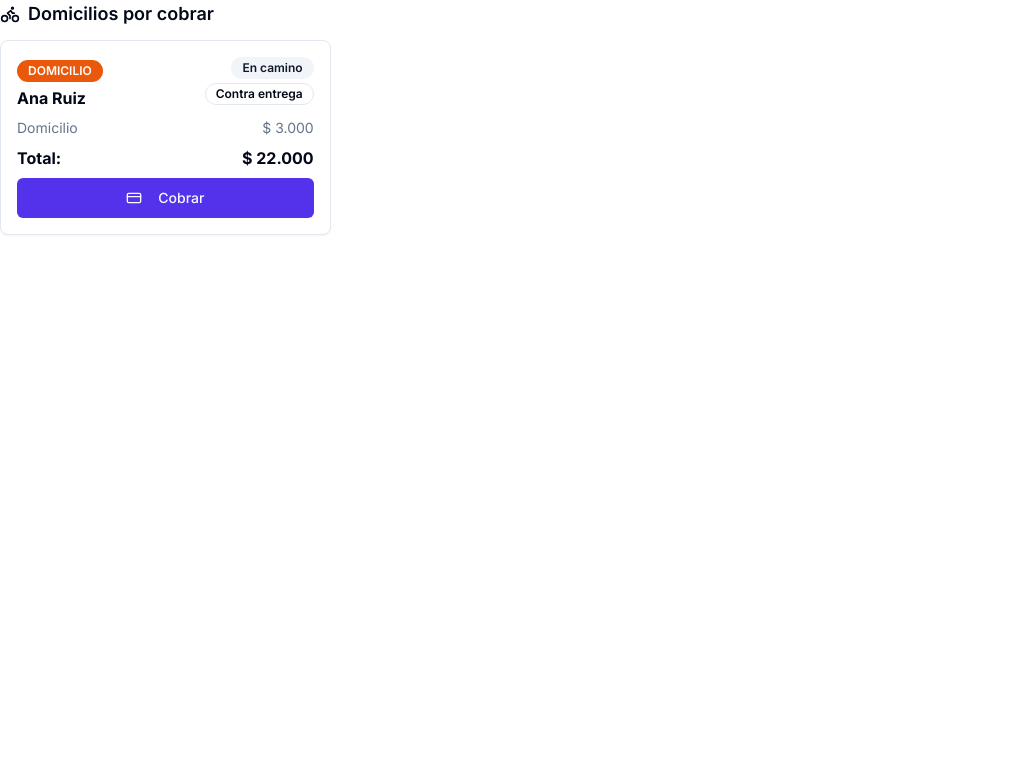
it: DeliveryPaymentsPanel — register open check › asks only for the open register on mount and on every Cobrar click
This screenshot has width=1024, height=768.
Check: the text "Ana Ruiz" is shown, box [17,88,86,108]
Click the button "Cobrar" at (165, 198), box [17,178,314,218]
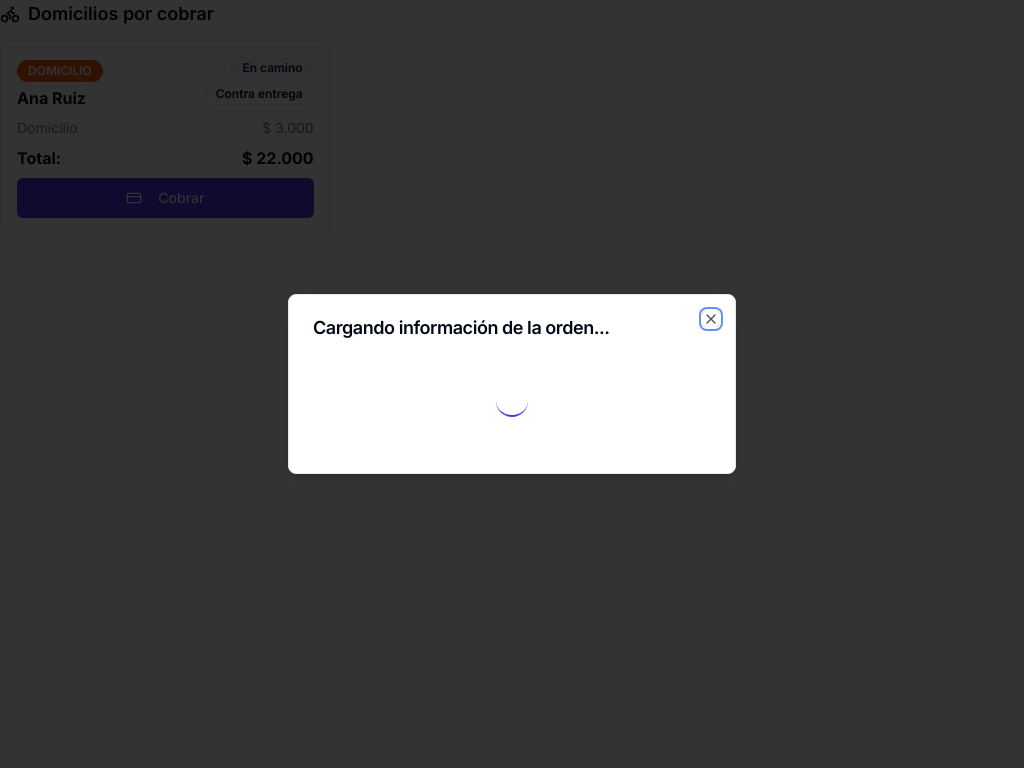
Check: the heading "Cargando información de la orden..." is shown, box [313,317,610,338]
